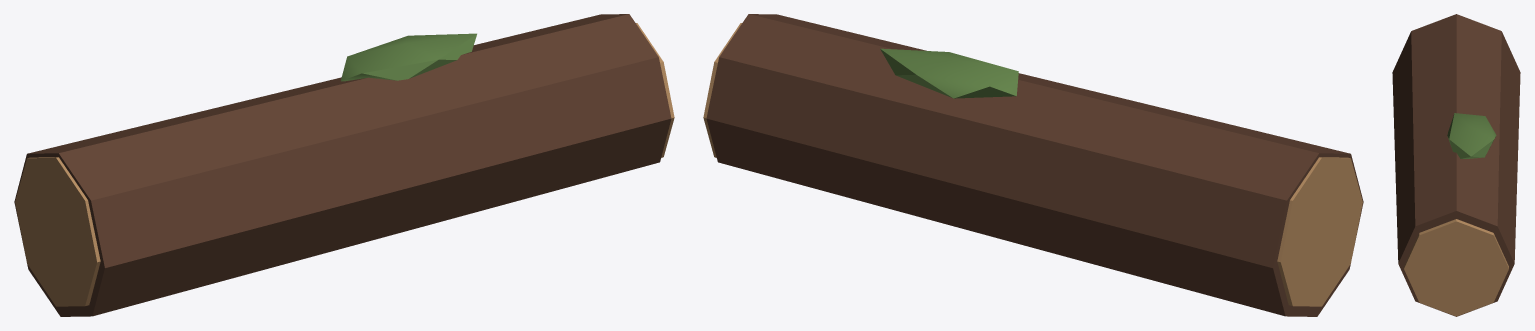
The model's file is rest_log.fbx.
3 views of the same model, side by side, from view 1: azimuth 30°, elevation 25°; view 2: azimuth 150°, elevation 25°; view 3: azimuth 270°, elevation 25° (orthographic). The views are drawn at different scales.
Parts seen in each view (by area): view 1: rest_log; view 2: rest_log; view 3: rest_log.
Boxes of the visible parts, x1=… form: rest_log: x1=14, y1=14, x2=674, y2=316; rest_log: x1=703, y1=14, x2=1363, y2=316; rest_log: x1=1392, y1=14, x2=1520, y2=316.
Size of the model in its own units: 1.63 by 0.4797 by 0.44.
